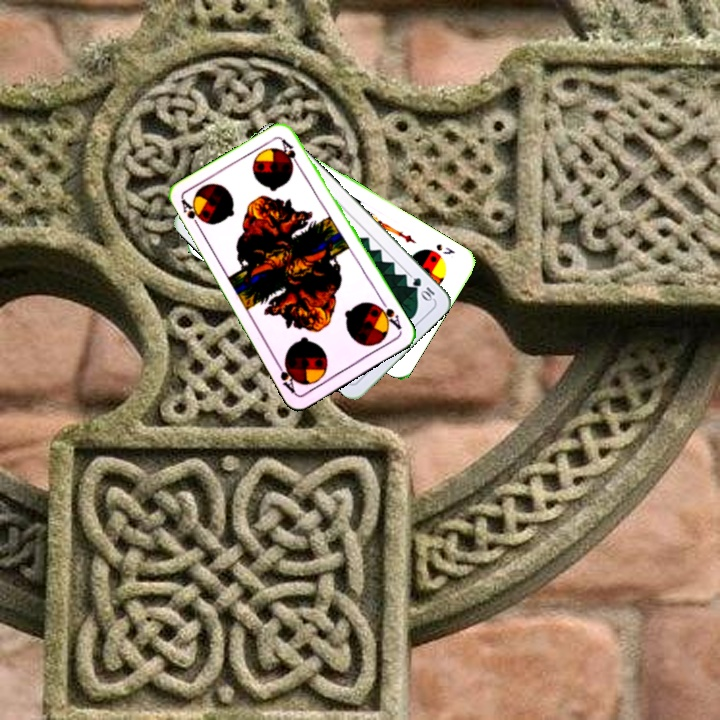G10: (408, 273, 437, 304)
SA: (372, 297, 404, 332), (177, 195, 205, 233)
SK: (432, 240, 458, 257)
